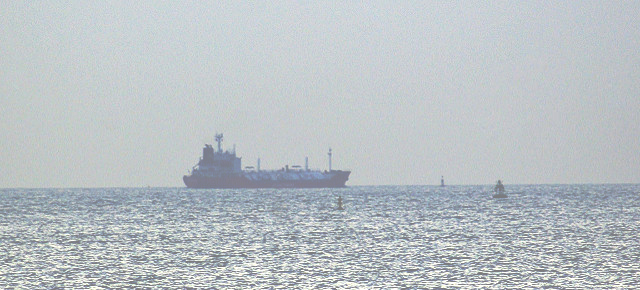LNG_ship: (182, 135, 353, 184)
